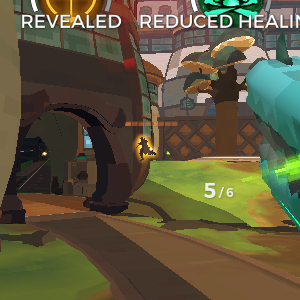model: (130, 133, 157, 161)
